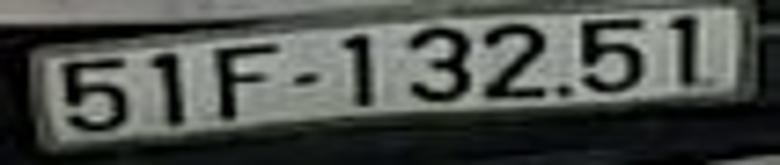-: (297, 73, 315, 85)
.: (556, 85, 567, 96)
1: (153, 53, 184, 125), (347, 36, 373, 110), (669, 17, 696, 86)
2: (487, 24, 544, 98)
3: (409, 29, 468, 101)
5: (61, 59, 127, 130), (583, 21, 644, 94)
F: (218, 47, 276, 119)
